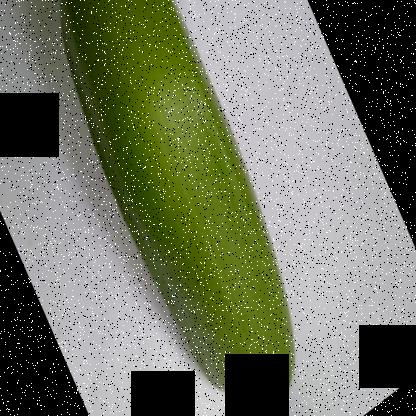freshunripe: (53, 1, 315, 413)
